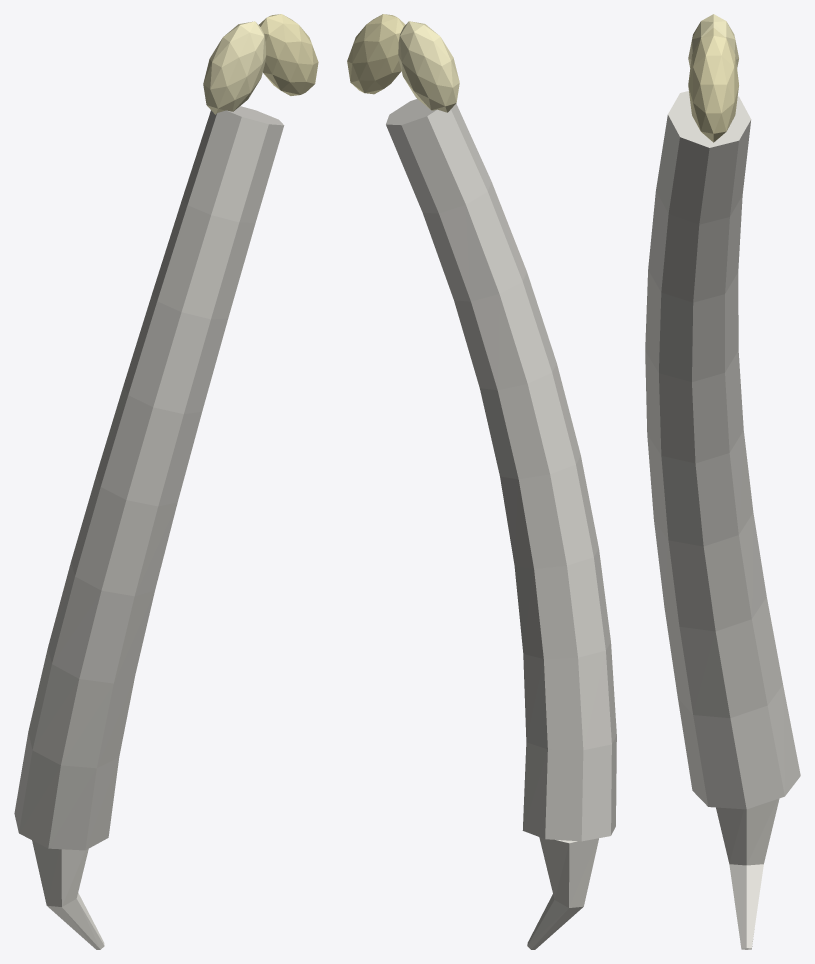
Rendered from beansprout_l.glb.
3 renders of one model, left to right at view 1: azimuth 30°, elevation 25°; view 2: azimuth 150°, elevation 25°; view 3: azimuth 270°, elevation 25°, orthographic. The views are drawn at different scales.
Parts seen in each view (by area): view 1: stem, head-1, root, head1; view 2: stem, root, head-1, head1; view 3: stem, root, head1, head-1.
Boxes of the visible parts, x1,y1,x2,y2 form: stem: (14, 106, 284, 850); head-1: (203, 21, 266, 114); root: (32, 840, 104, 949); head1: (259, 14, 318, 95); stem: (386, 99, 616, 841); root: (527, 837, 598, 949); head-1: (398, 21, 459, 112); head1: (347, 14, 405, 94); stem: (645, 91, 800, 809); root: (716, 798, 779, 949); head1: (688, 27, 738, 142); head-1: (688, 14, 738, 68).
Size of the model in its own units: 0.0417 by 0.1281 by 0.018.
